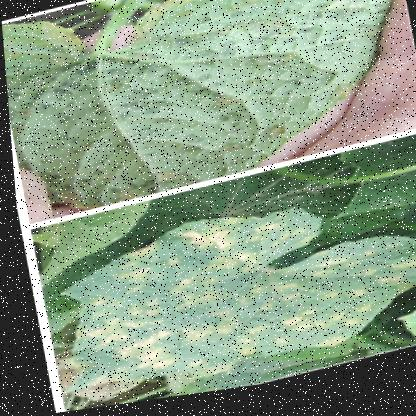DownyMildew: (59, 243, 275, 392), (246, 238, 415, 331), (145, 209, 299, 287)
